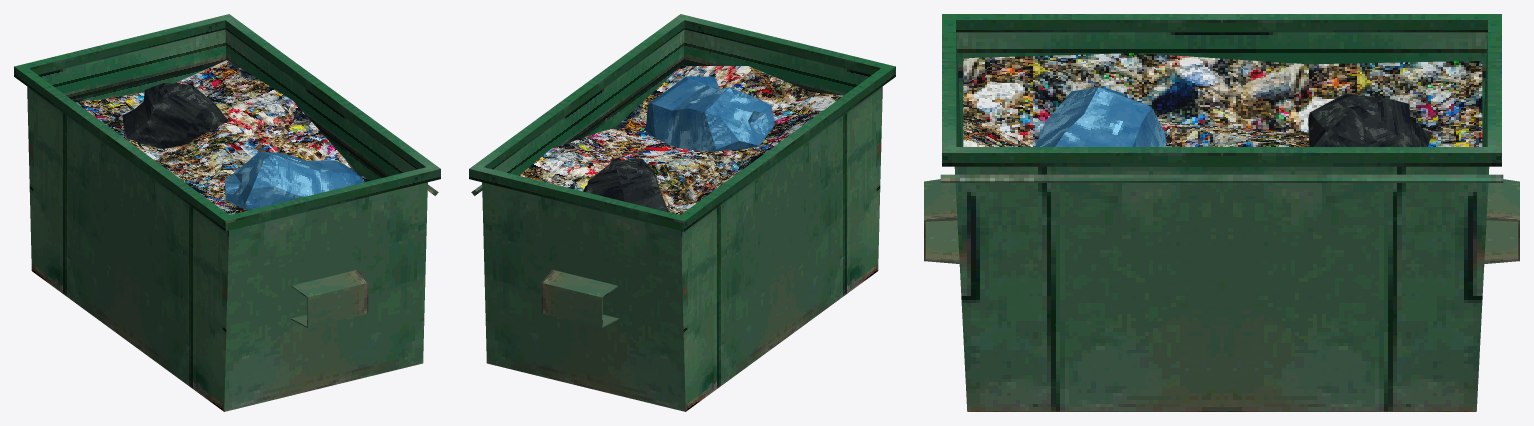
The model's file is dumpster_full_no_lid.glb.
The picture shows the model from 3 angles, left to right: view 1: azimuth 30°, elevation 25°; view 2: azimuth 150°, elevation 25°; view 3: azimuth 270°, elevation 25°; orthographic projection. The views are drawn at different scales.
Visible parts, largest first — view 1: dumpster_full_no_lid; view 2: dumpster_full_no_lid; view 3: dumpster_full_no_lid.
Part boxes in pixels (x1=…): dumpster_full_no_lid: x1=14, y1=14, x2=440, y2=411; dumpster_full_no_lid: x1=469, y1=14, x2=895, y2=411; dumpster_full_no_lid: x1=924, y1=14, x2=1519, y2=411.
Size of the model in its own units: 2.03 by 1.8 by 3.67.
Materials: 3 (3 with a texture image).
